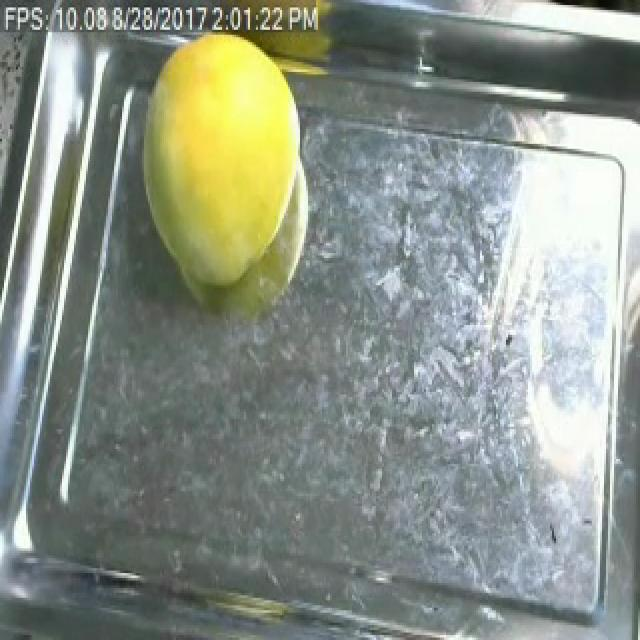fruit: (120, 22, 322, 312)
